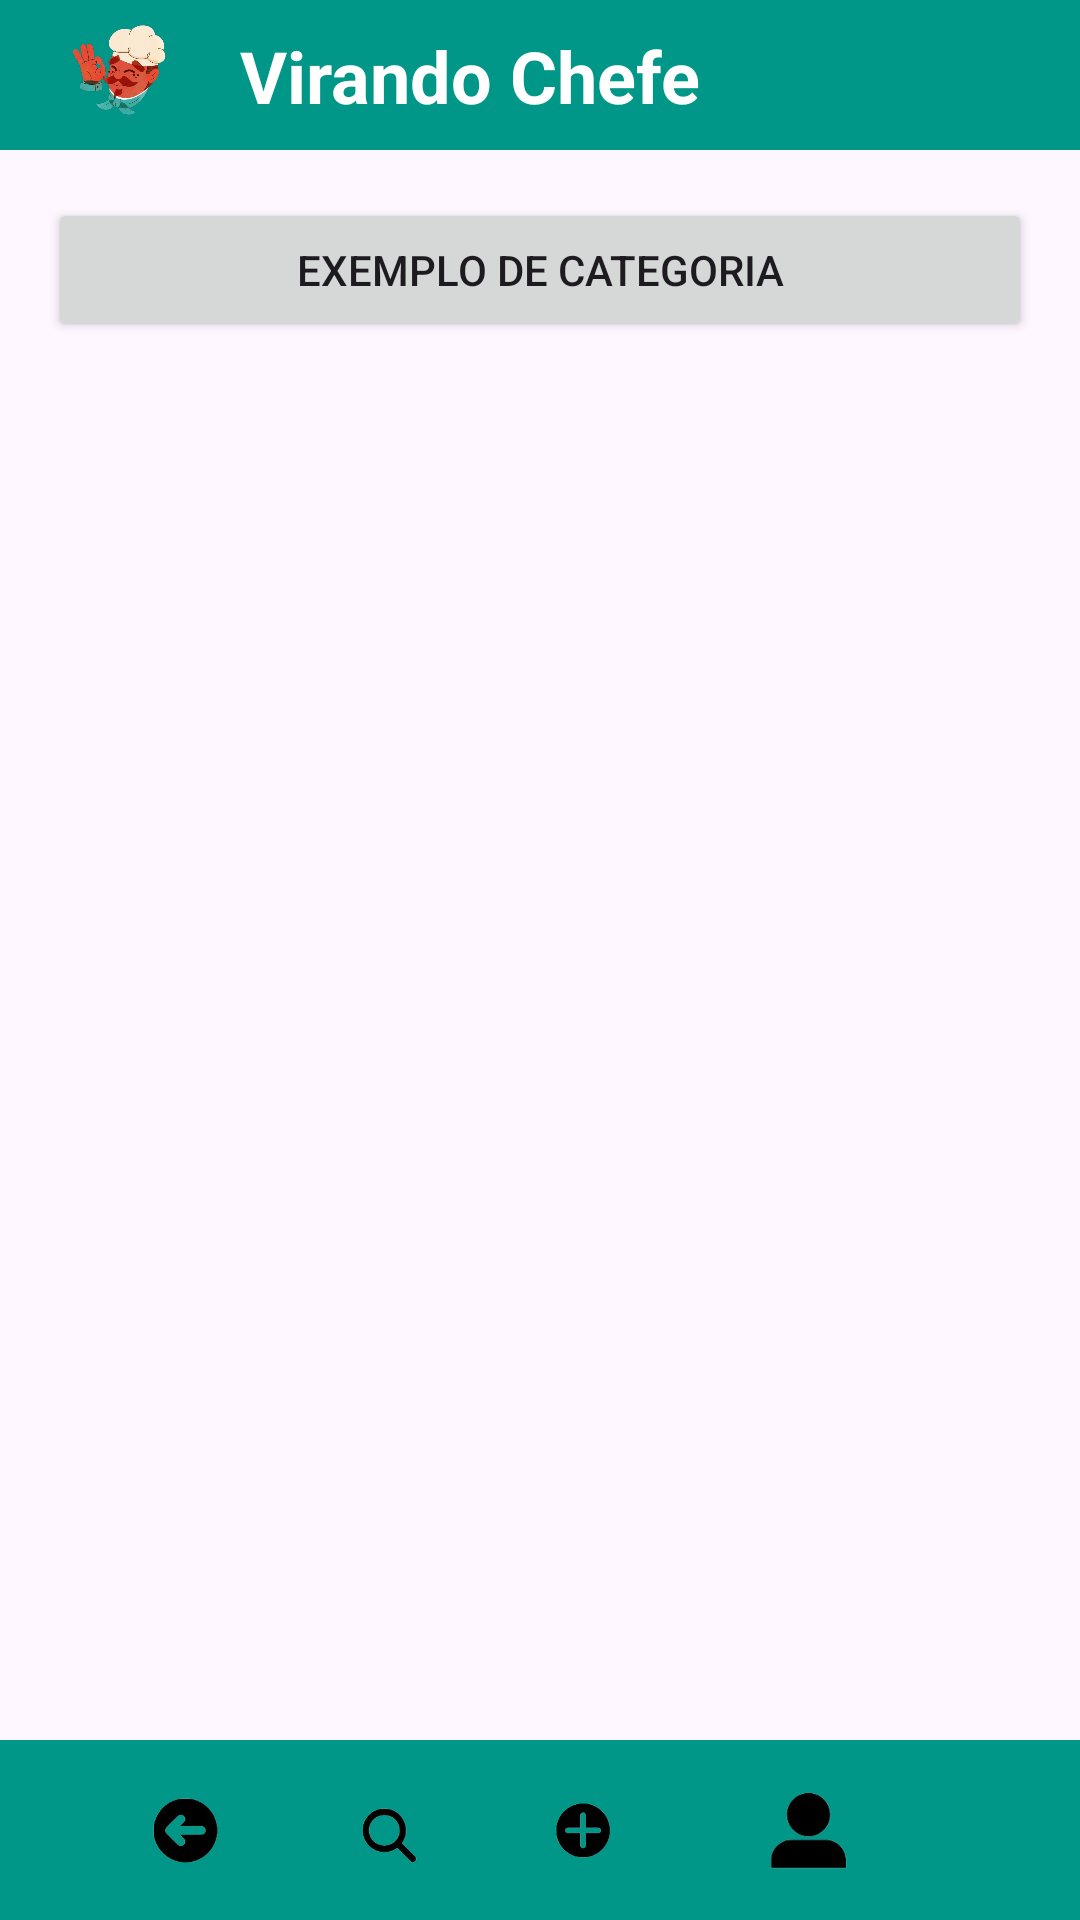

Locate icon controls on the screen. Image size 1080w x 1920h, boxes as {"left": x1, "top": y1, "right": x2, "bottom": y2}.
Adicionar: {"left": 556, "top": 1803, "right": 610, "bottom": 1858}
Perfil: {"left": 770, "top": 1793, "right": 847, "bottom": 1869}
Pesquisar: {"left": 362, "top": 1808, "right": 417, "bottom": 1862}
Voltar: {"left": 153, "top": 1798, "right": 218, "bottom": 1863}
